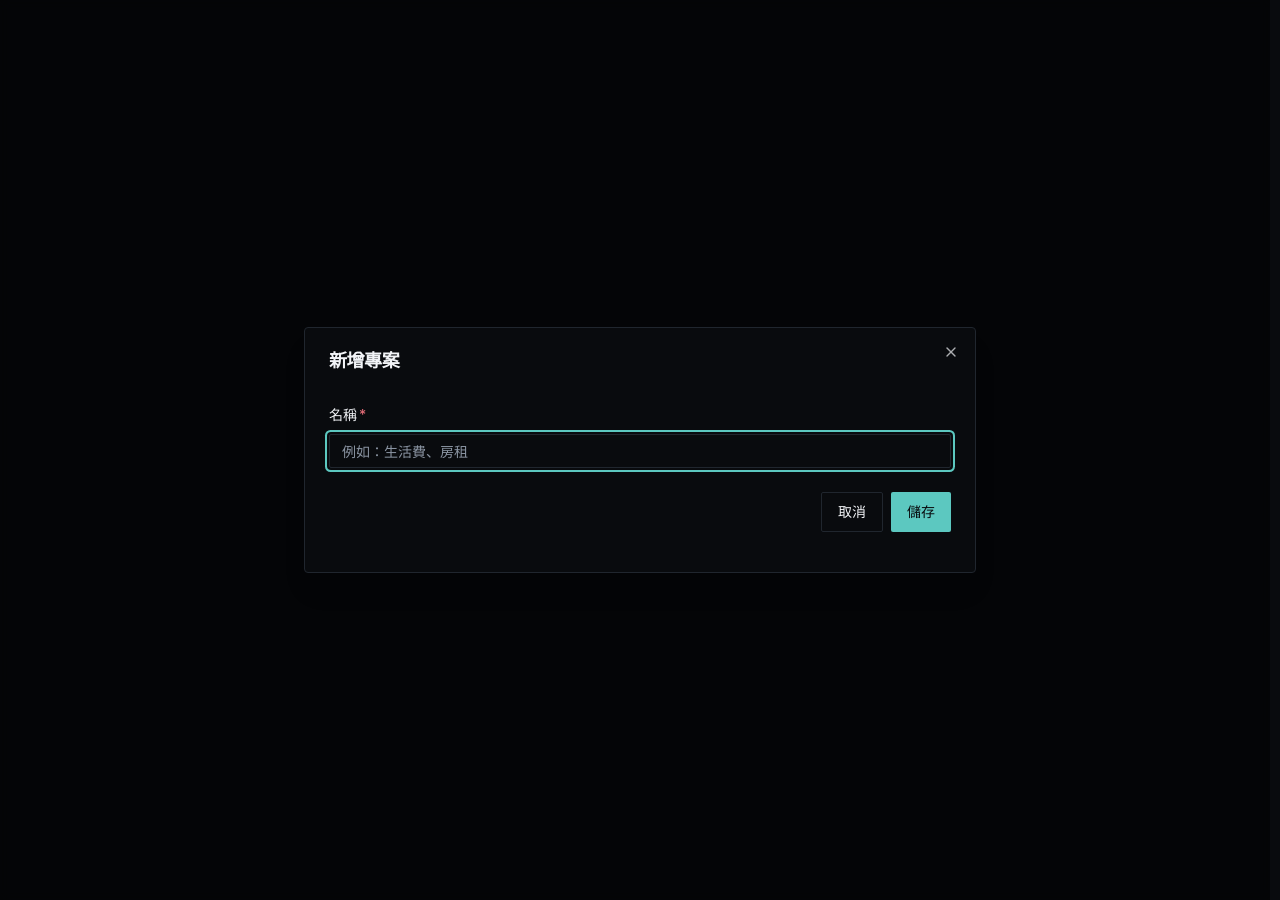
ProjectForm › blocks submit and shows the error when the name is empty
Click the button "儲存".
click(921, 512)  # box [891,492,951,532]
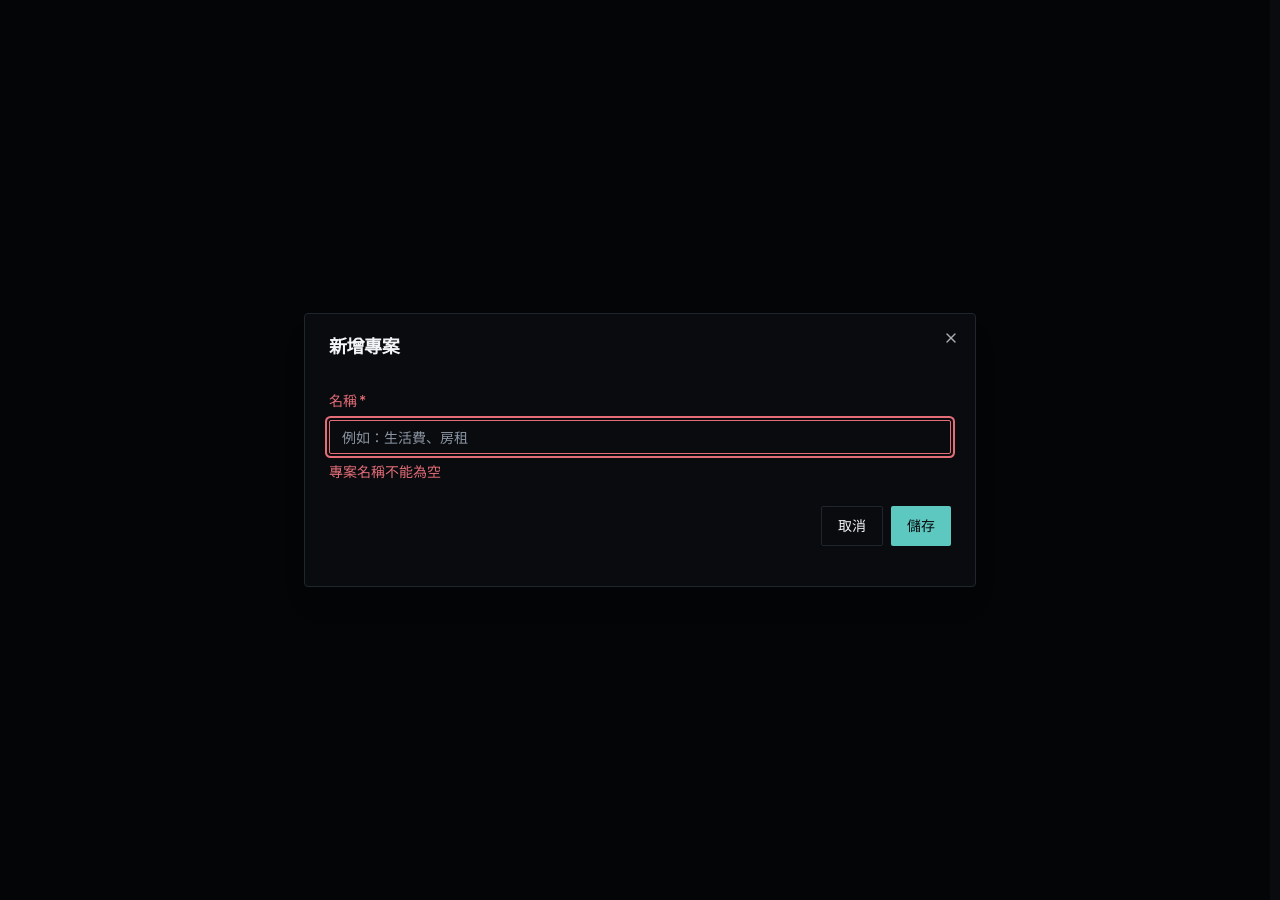
Expected: the text "專案名稱不能為空" is shown, [329,463,441,480]
